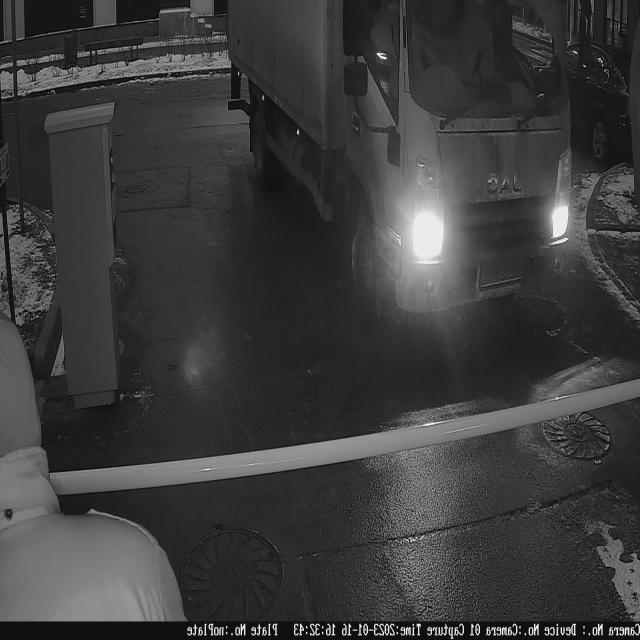car-plate-numbers: (480, 248, 529, 295)
